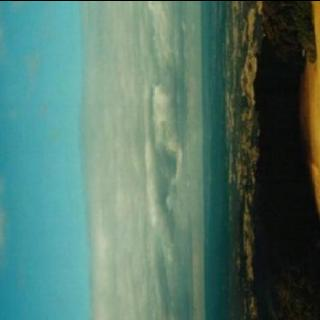Stratocumulus: (0, 0, 201, 320)
